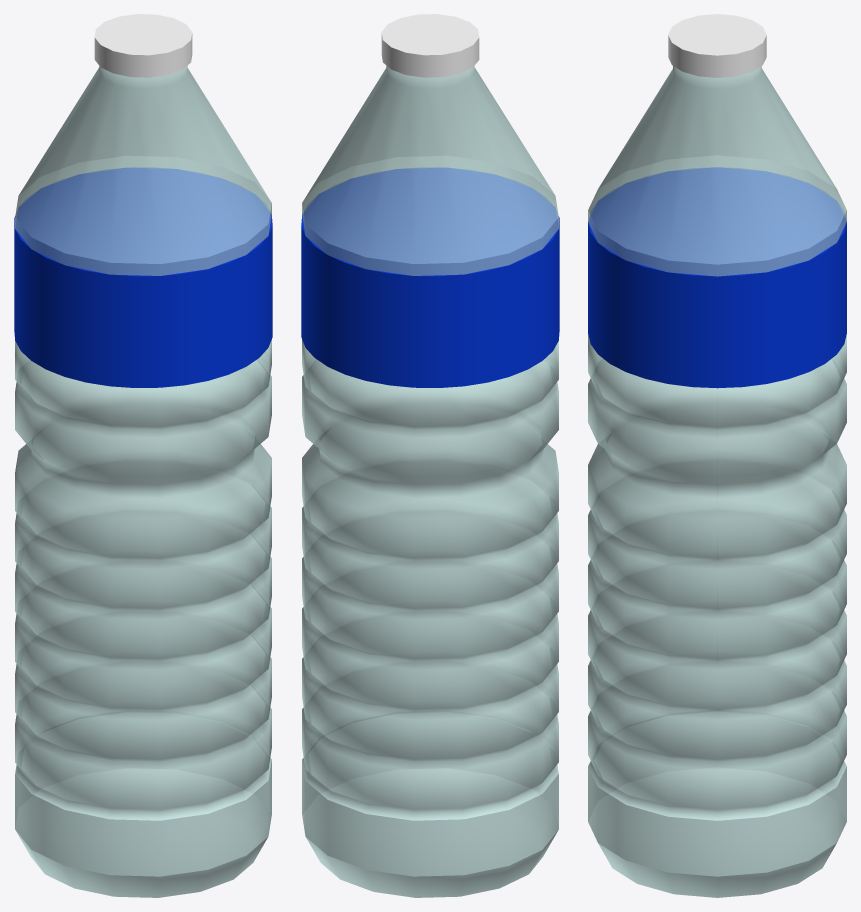
Rendered from Bottle.fbx.
3 views of the same model, side by side, from view 1: azimuth 30°, elevation 25°; view 2: azimuth 150°, elevation 25°; view 3: azimuth 270°, elevation 25° (orthographic).
Visible parts, largest first — view 1: Bottle; view 2: Bottle; view 3: Bottle.
Boxes of the visible parts, bbox=[...] form: Bottle: bbox=[14, 14, 272, 897]; Bottle: bbox=[301, 14, 559, 897]; Bottle: bbox=[588, 14, 846, 897].
Bounding box in the file's own units: 840 × 2920 × 840.
